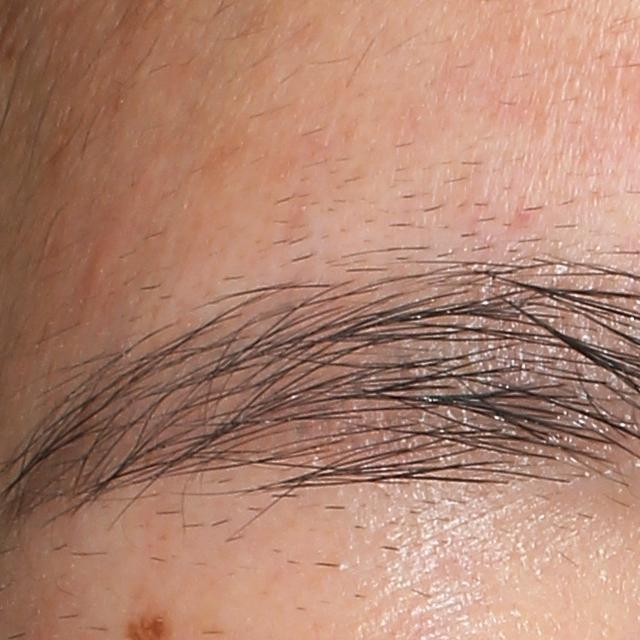papule: (86, 231, 122, 292)
